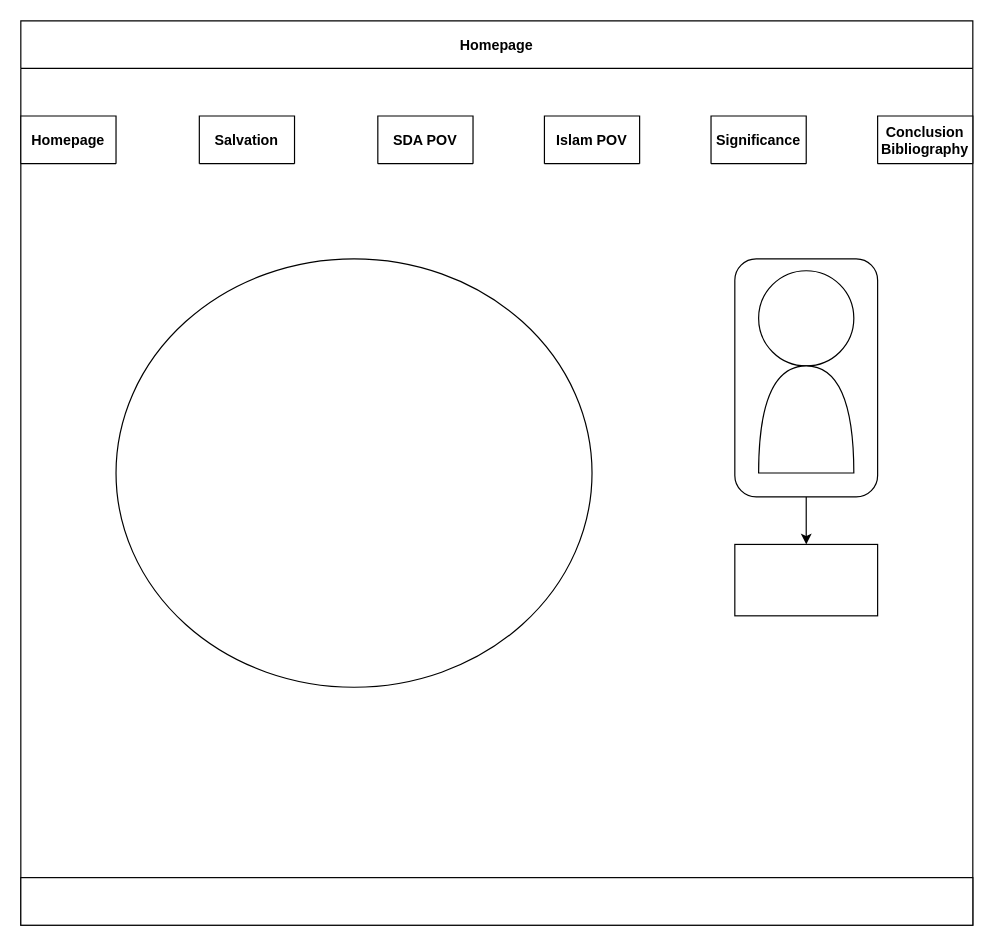
Some shapes in this 994 by 946 pixel diagram are drawn without their labels. The centre of each missing label's shape, as x and y in pixels:
"<footer>micah@peehikuru.net</footer>" belongs at [496,900].
"Image of assessment taker" belongs at [806,579].
"Intro to computer assessment" belongs at [353,472].
